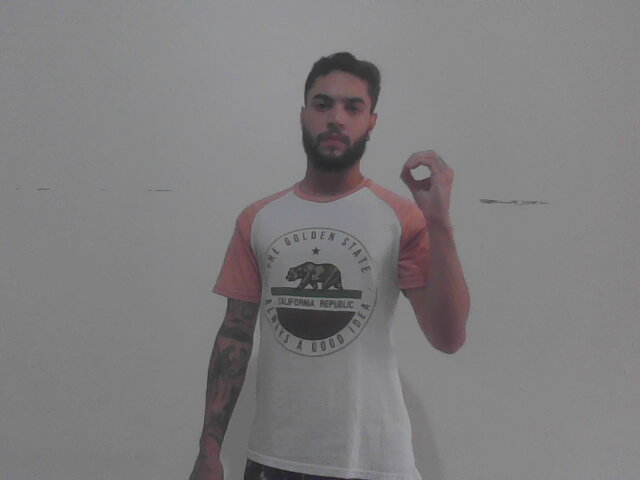o: (396, 145, 463, 226)
